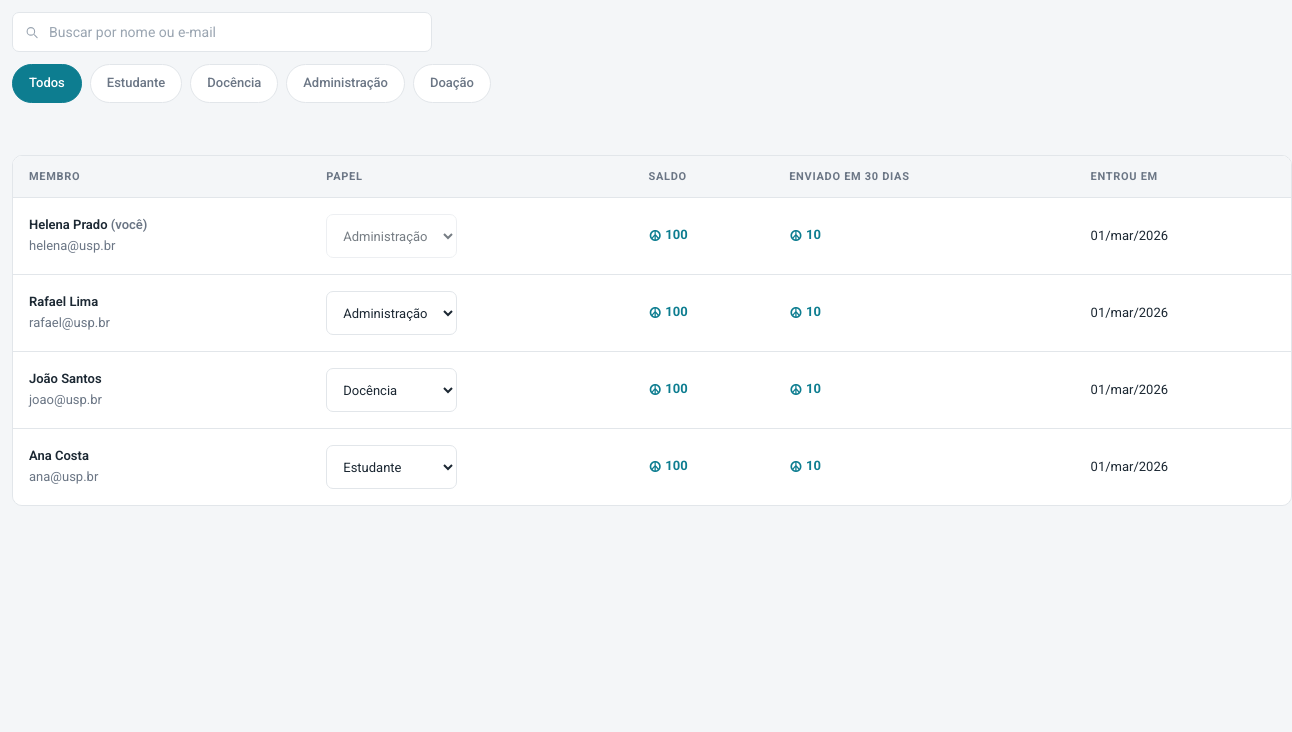
Test: UserRoleManager › changes a role and announces it
The image size is (1292, 732).
Select "Docência" in the dropdown named "Papel de Ana Costa" at (392, 467), box [326, 445, 457, 489]
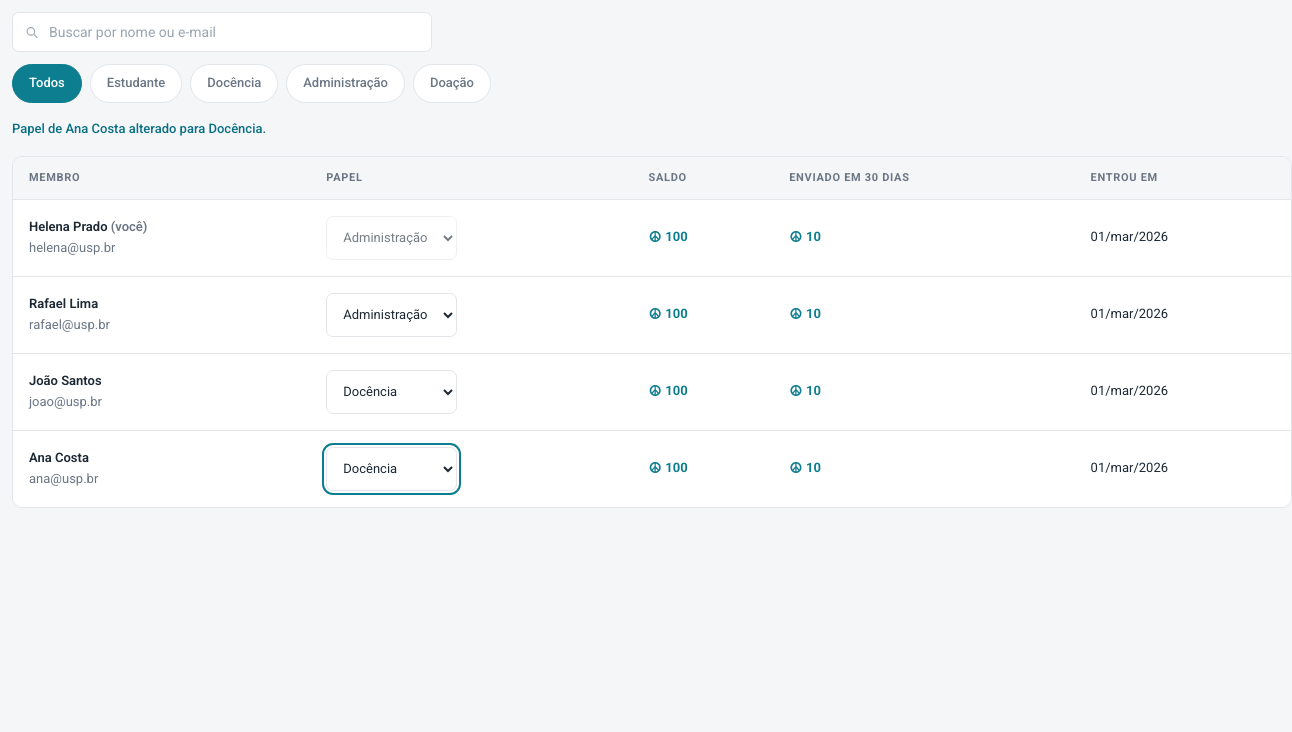
Result: the text "Papel de Ana Costa alterado para Docência." is shown at [12, 121, 266, 136]
